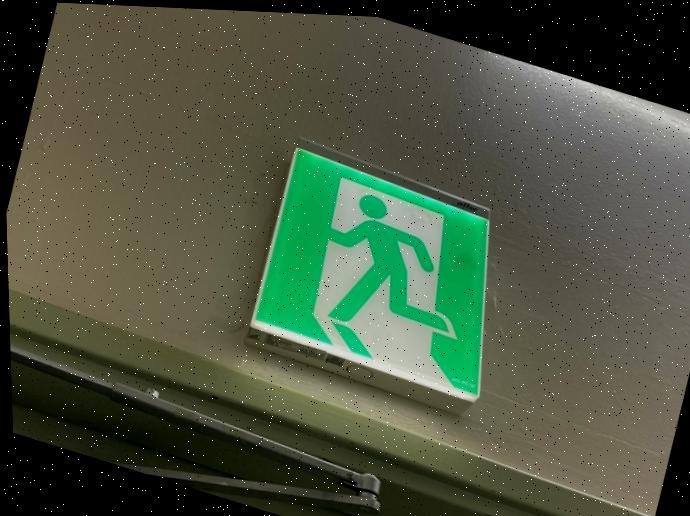emergency_exit: (245, 142, 491, 406)
